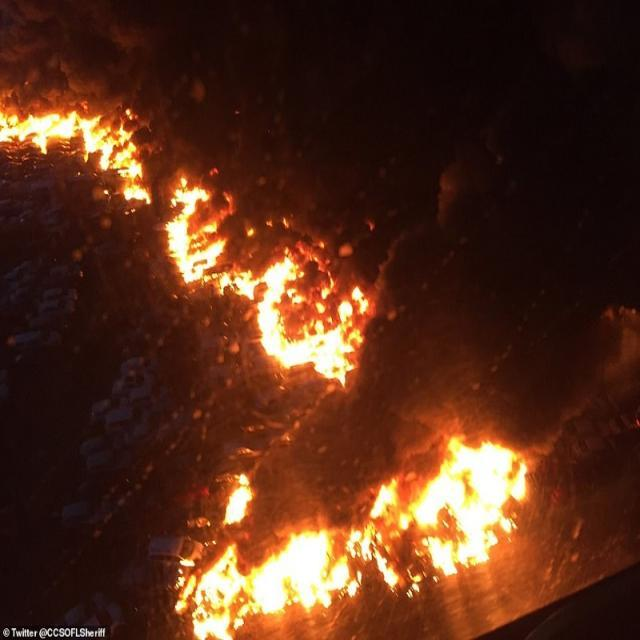Fire: (171, 441, 530, 628), (166, 182, 364, 390), (3, 106, 149, 212), (218, 474, 252, 532)
